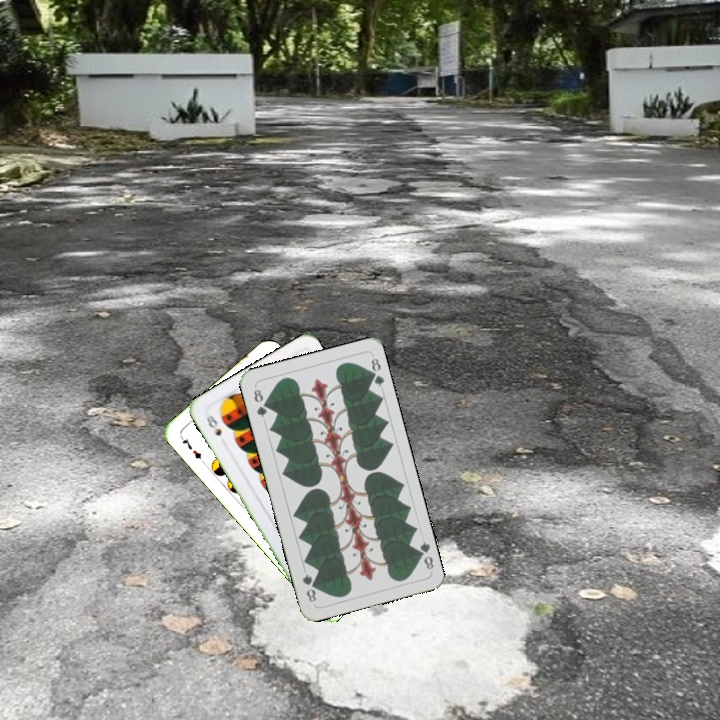E7: (176, 432, 207, 465)
G8: (412, 537, 436, 572), (249, 385, 270, 420)
S8: (202, 411, 224, 439)
